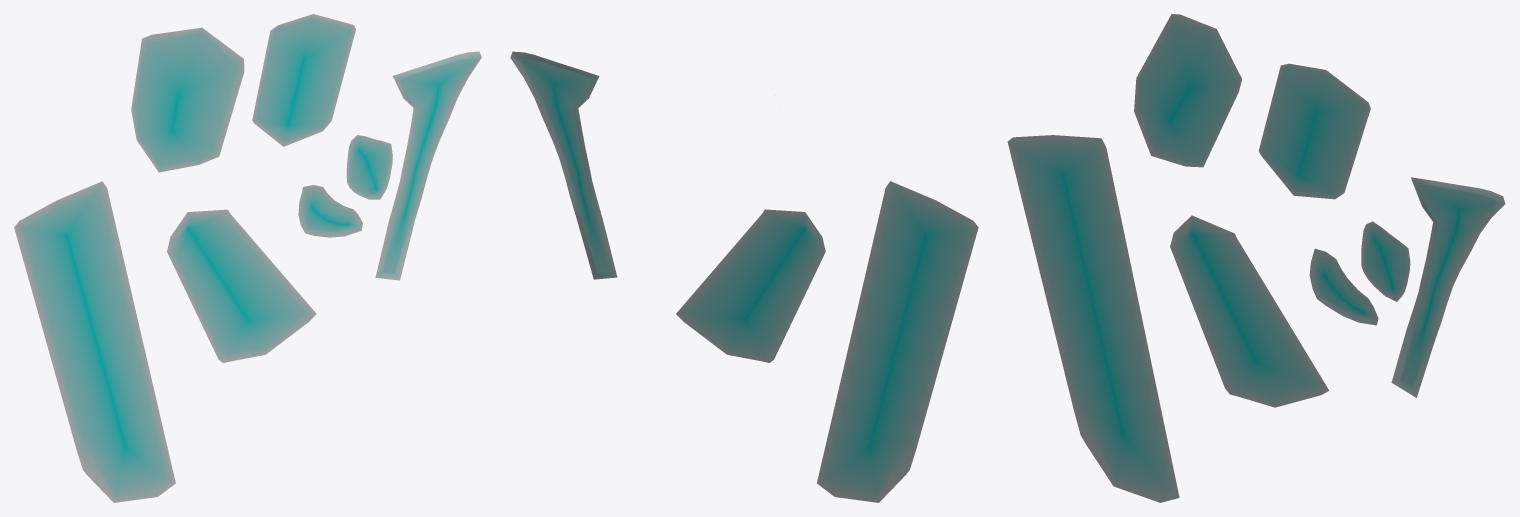
The model's file is SM_EFF_Text_LaughingMonk_02.glb.
3 renders of one model, left to right at view 1: azimuth 30°, elevation 25°; view 2: azimuth 150°, elevation 25°; view 3: azimuth 330°, elevation 25°, orthographic. The views are drawn at different scales.
Visible parts, largest first — view 1: SM_EFF_Text_LaughingMonk_02; view 2: SM_EFF_Text_LaughingMonk_02; view 3: SM_EFF_Text_LaughingMonk_02.
Part boxes in pixels (x1,y1,x2,y2): SM_EFF_Text_LaughingMonk_02: (14,14,481,502); SM_EFF_Text_LaughingMonk_02: (510,51,978,502); SM_EFF_Text_LaughingMonk_02: (1007,14,1505,502).
Size of the model in its own units: 0.9099 by 0.8443 by 0.0797.
